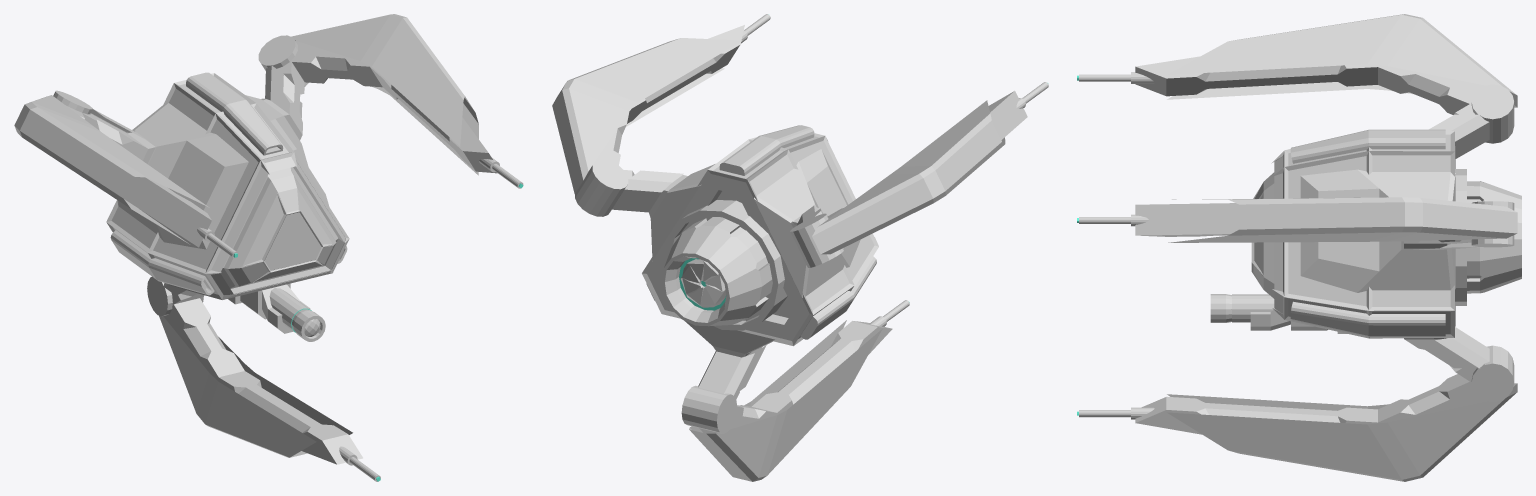
File: FIGHTERSHIP2.fbx
3 views of the same model, side by side, from view 1: azimuth 30°, elevation 25°; view 2: azimuth 150°, elevation 25°; view 3: azimuth 270°, elevation 25° (orthographic). The views are drawn at different scales.
Visible parts, largest first — view 1: Ship; view 2: Ship; view 3: Ship.
Part boxes in pixels (<box>): Ship: <box>14,14,523,481</box>; Ship: <box>552,14,1048,481</box>; Ship: <box>1077,14,1521,481</box>.
Bounding box in the file's own units: 402 × 350 × 381.
